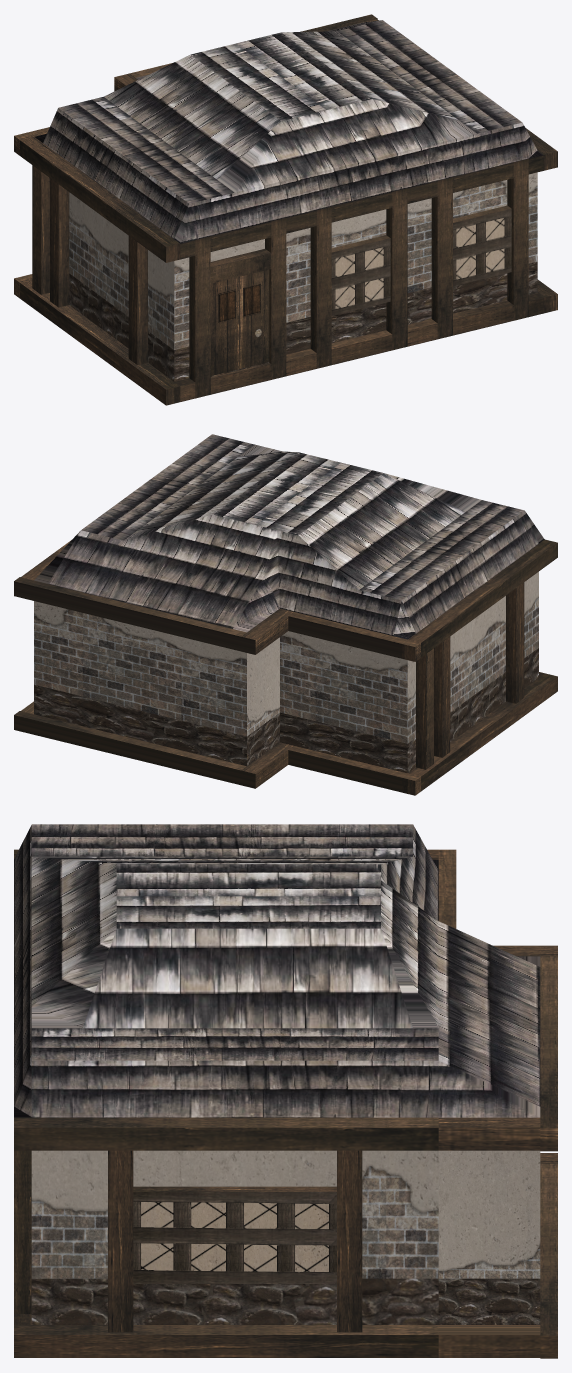
Rendered from TownHouse.fbx.
The picture shows the model from 3 angles, top to bottom: view 1: azimuth 30°, elevation 25°; view 2: azimuth 150°, elevation 25°; view 3: azimuth 270°, elevation 25°; orthographic projection. The views are drawn at different scales.
Parts seen in each view (by area): view 1: Cube_001; view 2: Cube_001; view 3: Cube_001.
Boxes of the visible parts, bbox=[...] form: Cube_001: bbox=[14, 14, 557, 405]; Cube_001: bbox=[14, 434, 557, 795]; Cube_001: bbox=[14, 824, 557, 1358].
Bounding box in the file's own units: 12.1 × 6.53 × 9.98.
Materials: 1 (1 with a texture image).
